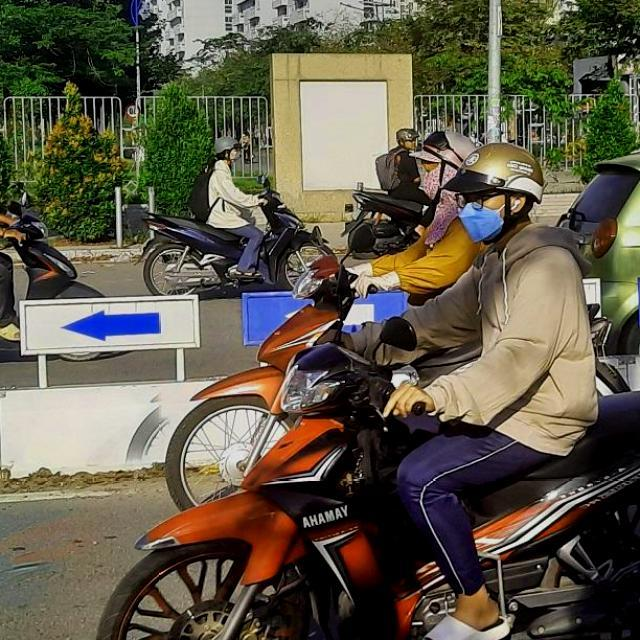Helmet: (454, 138, 550, 242), (215, 136, 241, 162)
